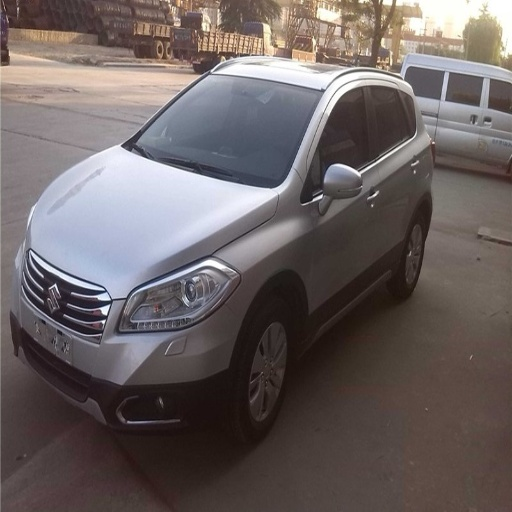front_bumper: (12, 251, 247, 435)
front_glass: (123, 75, 323, 187)
front_left_door: (305, 79, 378, 322)
